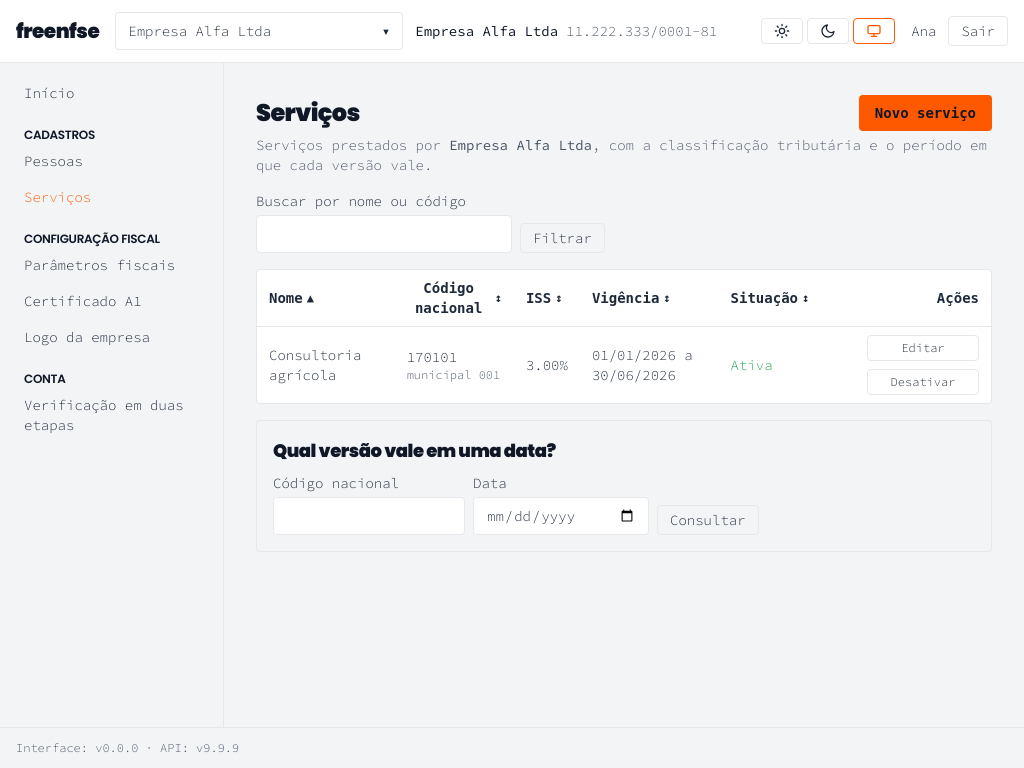
Test: Serviços › sem versão vigente na data mostra a mensagem do servidor
Expected: the text "Consultoria agrícola" is shown, [257, 327, 395, 403]
Step 1. Type "170101" into the field labelled "Código nacional" → x=369, y=516, box [273, 497, 465, 535]
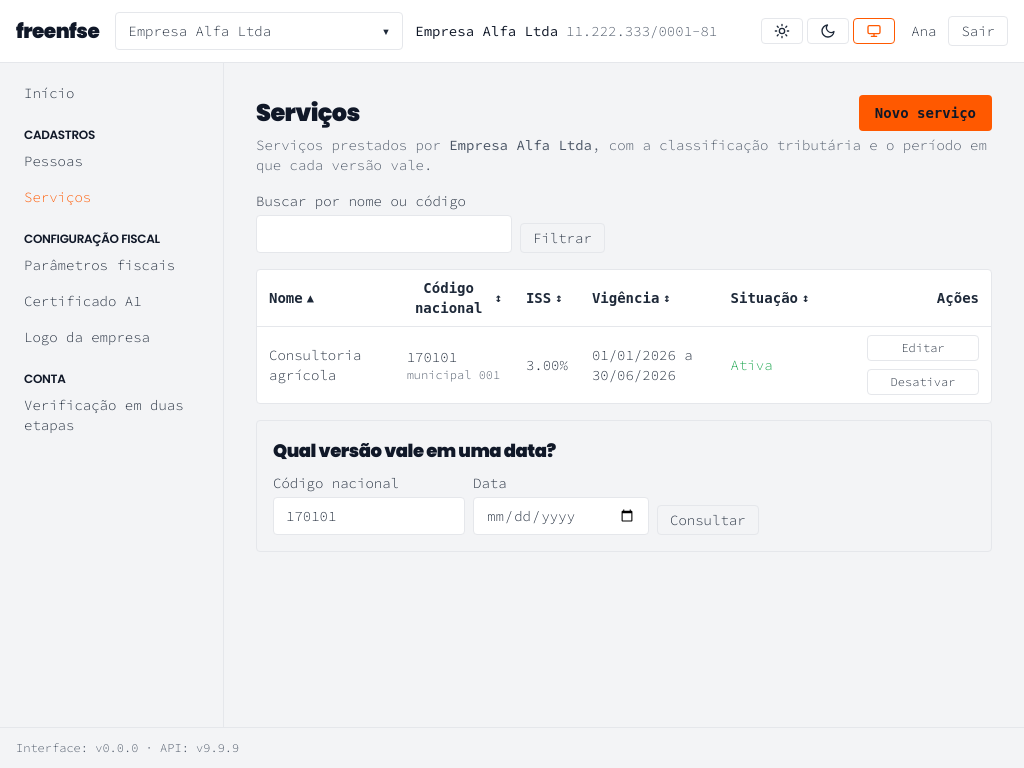
Step 2. Click the button "Consultar" → x=708, y=520, box [657, 505, 759, 535]
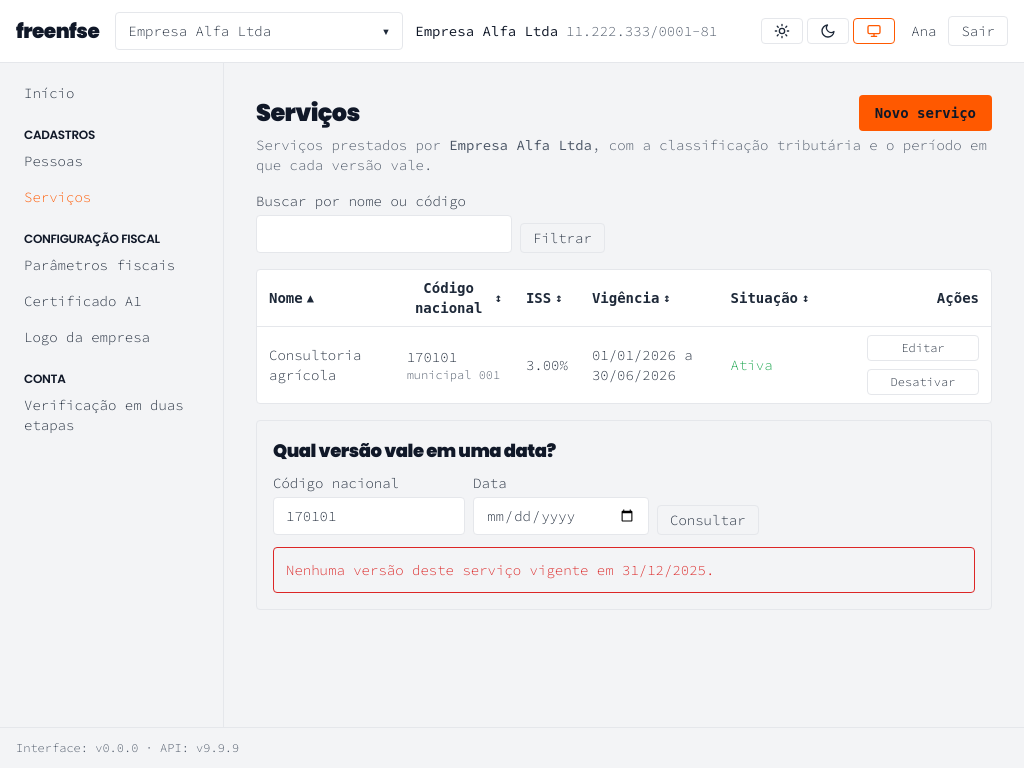
Expected: the message "Nenhuma versão deste serviço vigente em 31/12/2025." is shown, [273, 547, 975, 593]
